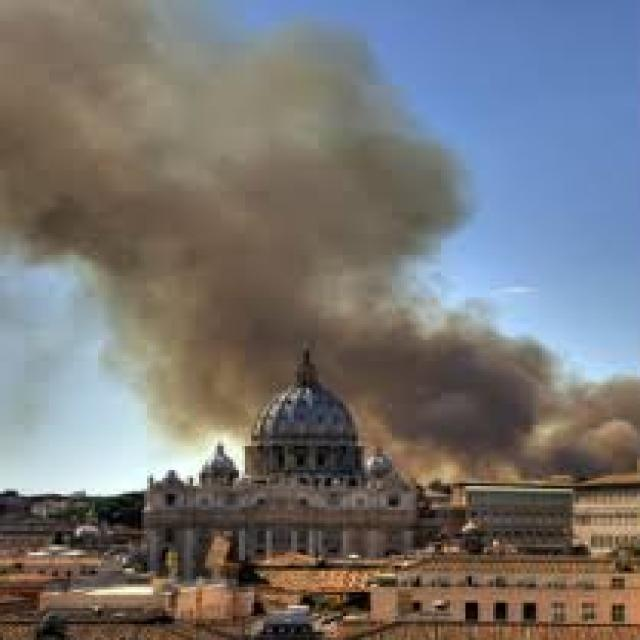Smoke: (0, 0, 640, 478)
